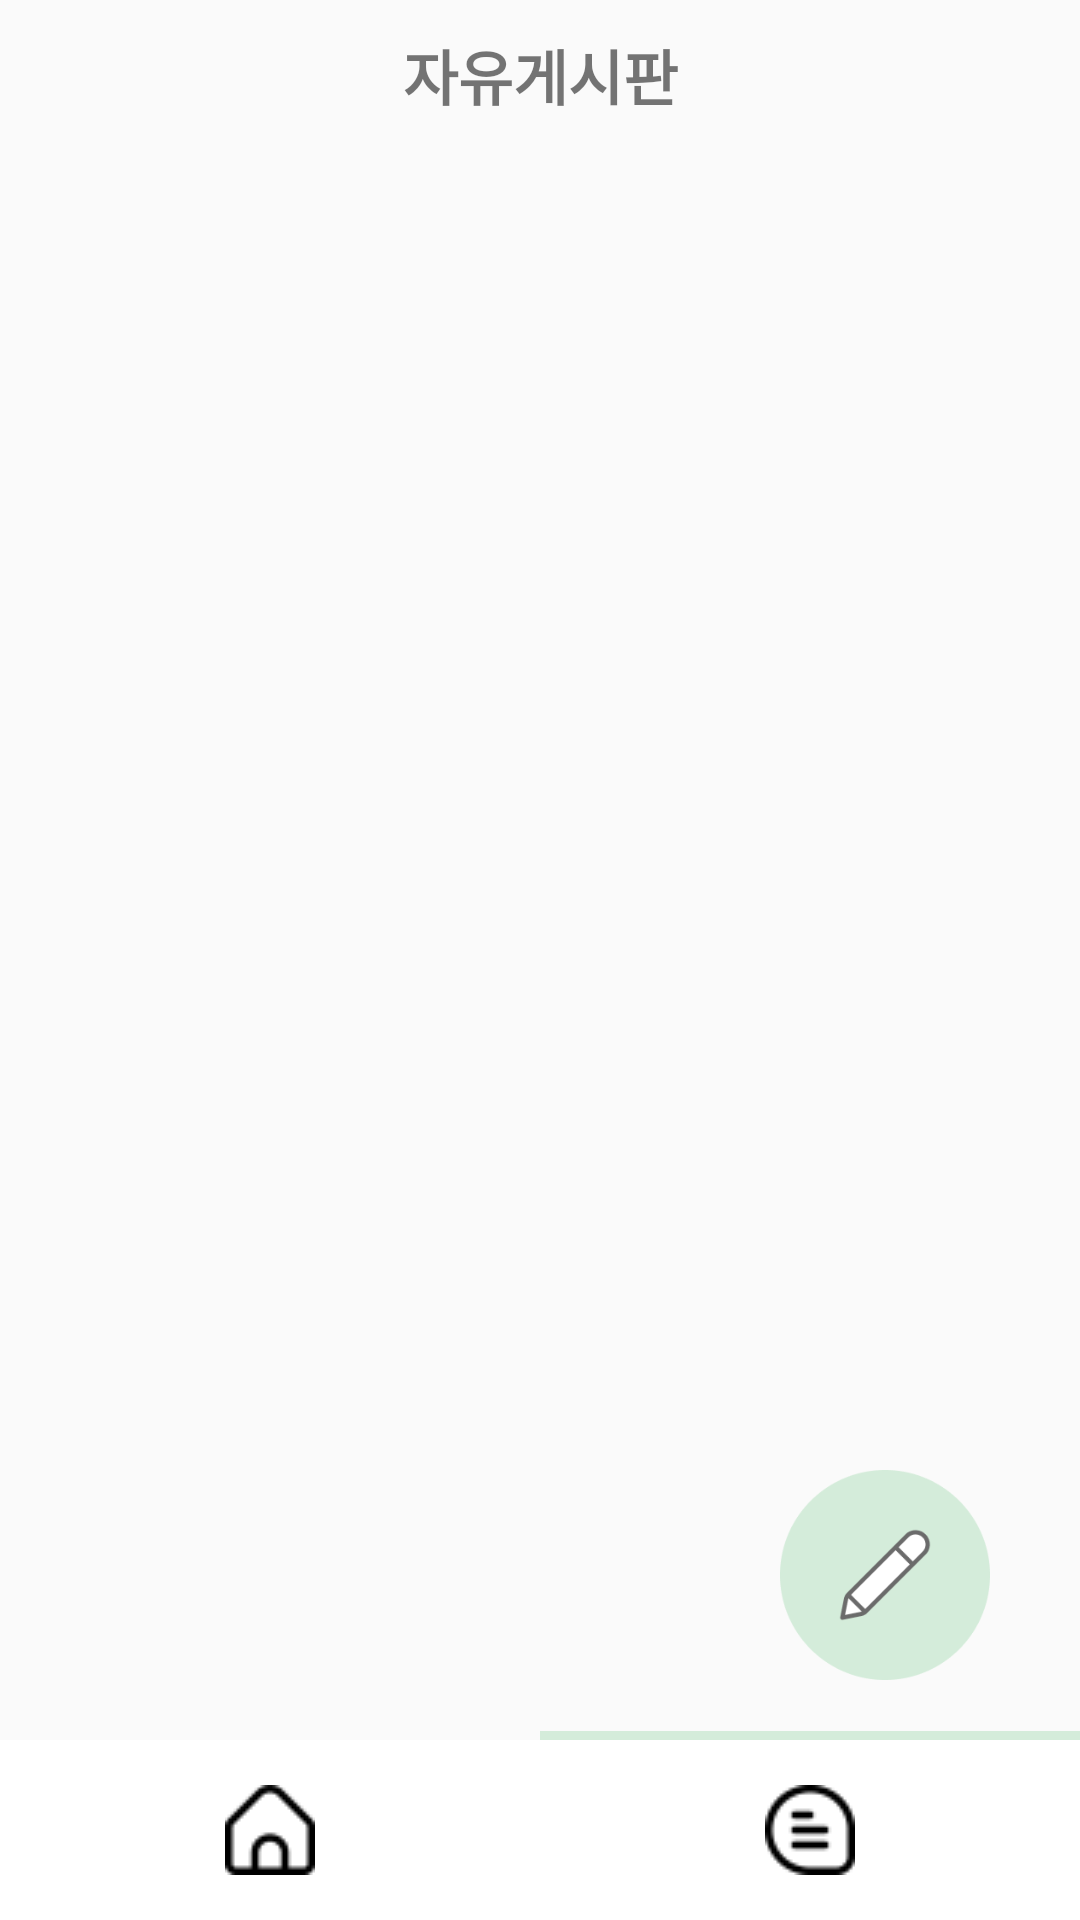

Icon bounding boxes for this 1080 x 1920 phone screenshot, format [x1=x1, y1=y1, x2=x2, y2=y2]:
bottom hometap: [x1=225, y1=1785, x2=315, y2=1875]
bottom talk: [x1=765, y1=1785, x2=855, y2=1875]
btnwrite: [x1=780, y1=1470, x2=990, y2=1680]
